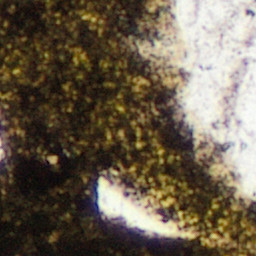cement_matrix: (0, 0, 255, 255), (95, 174, 197, 239), (206, 234, 225, 243)
gravel_crushed_stones: (136, 0, 255, 202), (96, 175, 196, 238), (0, 130, 4, 162), (207, 235, 224, 242)
